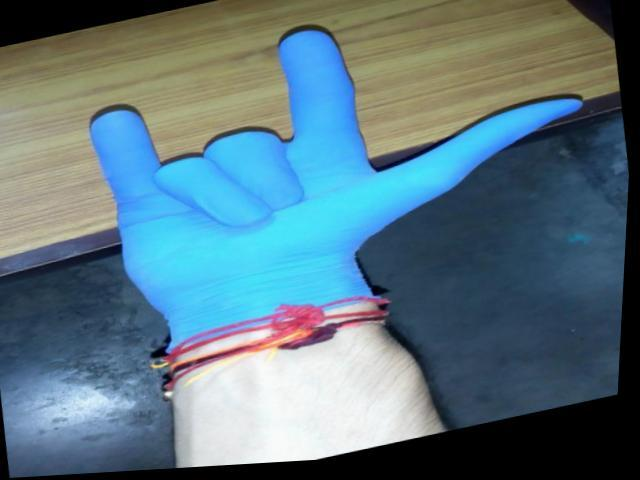Hand-in-Glove: (22, 0, 636, 383)
